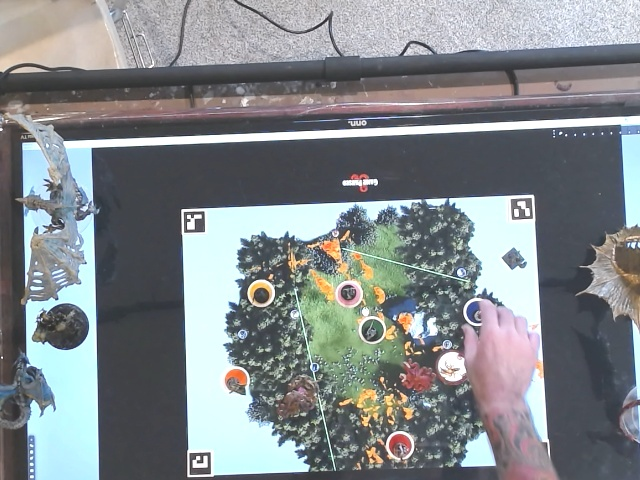blue: (460, 296, 494, 327)
green: (353, 314, 387, 348)
orange: (221, 362, 259, 397)
pink: (332, 278, 364, 309)
red: (383, 426, 417, 462)
yellow: (243, 276, 276, 308)
